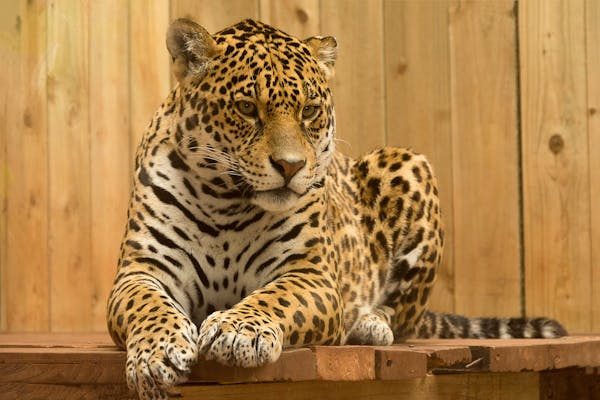Leopard: (106, 18, 567, 400)
